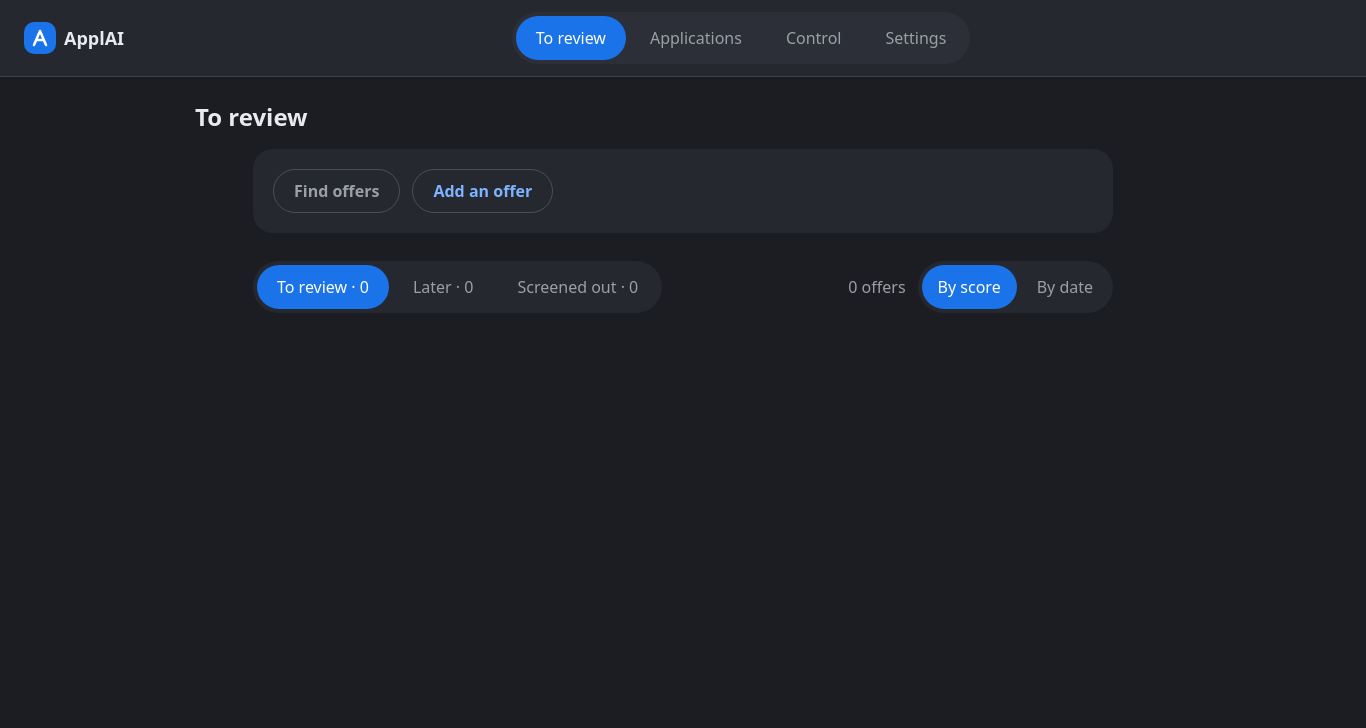
the Correct screen › shows the offer, each question, its text, its cited facts and its judge warning, in en
Click the button "Applications" at (696,38), box [630,16,762,60]
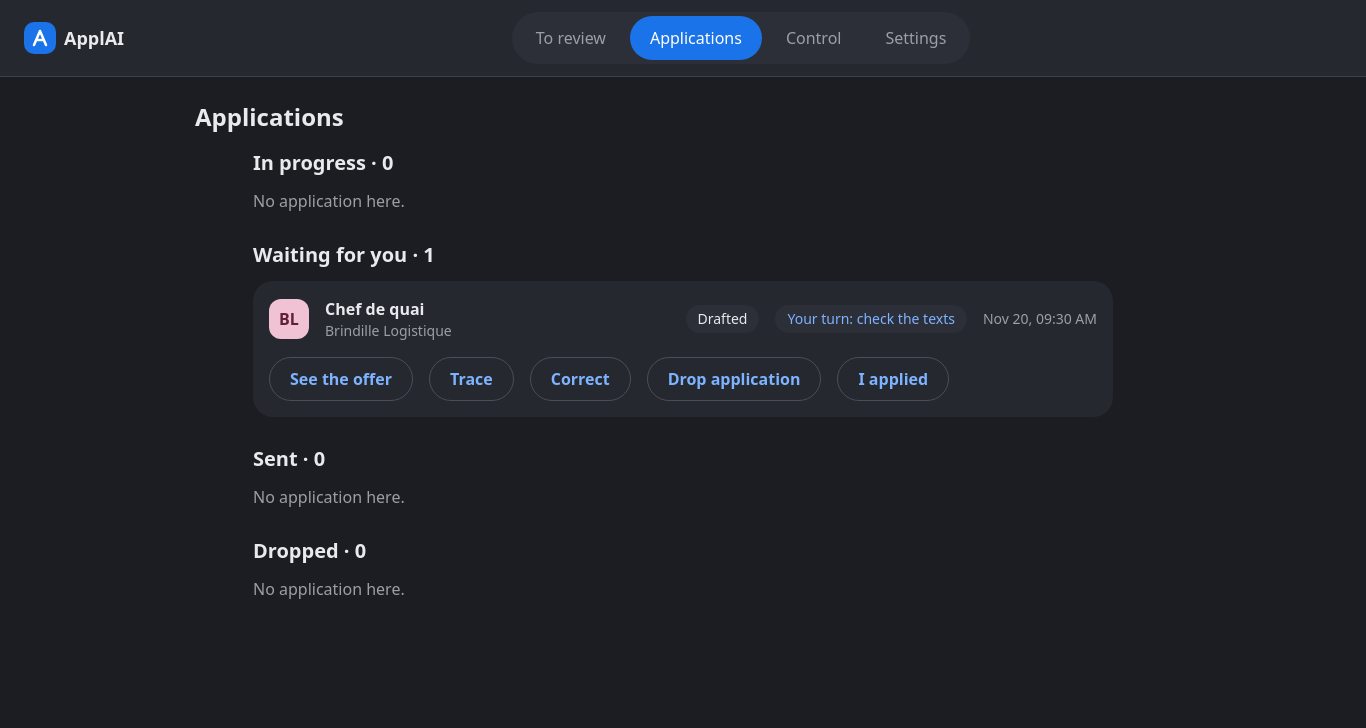
Click the button "Correct" at (580,379), box [530,357,631,401]
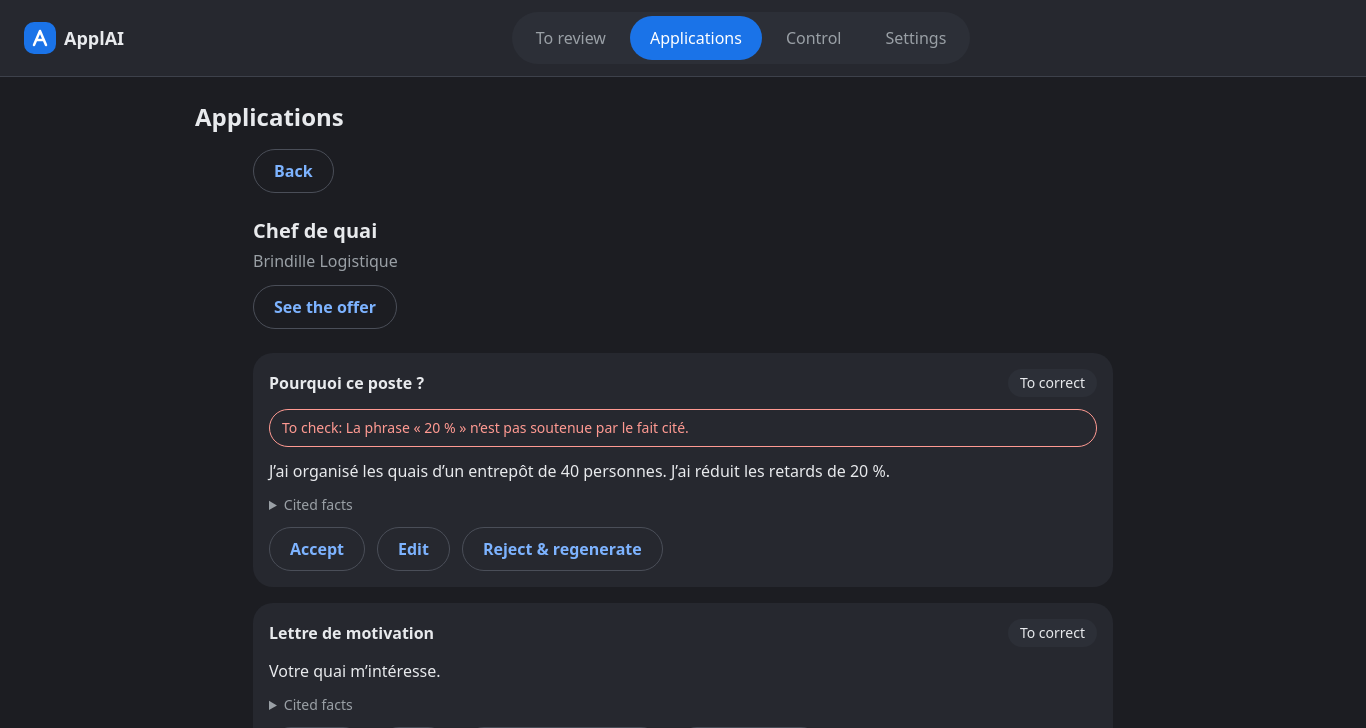
Check: the heading "Chef de quai" is shown, box [253,217,377,244]
Check: the text "Brindille Logistique" is shown, box [253,250,398,272]
Check: the text "J’ai organisé les quais" is shown, box [269,460,890,482]
